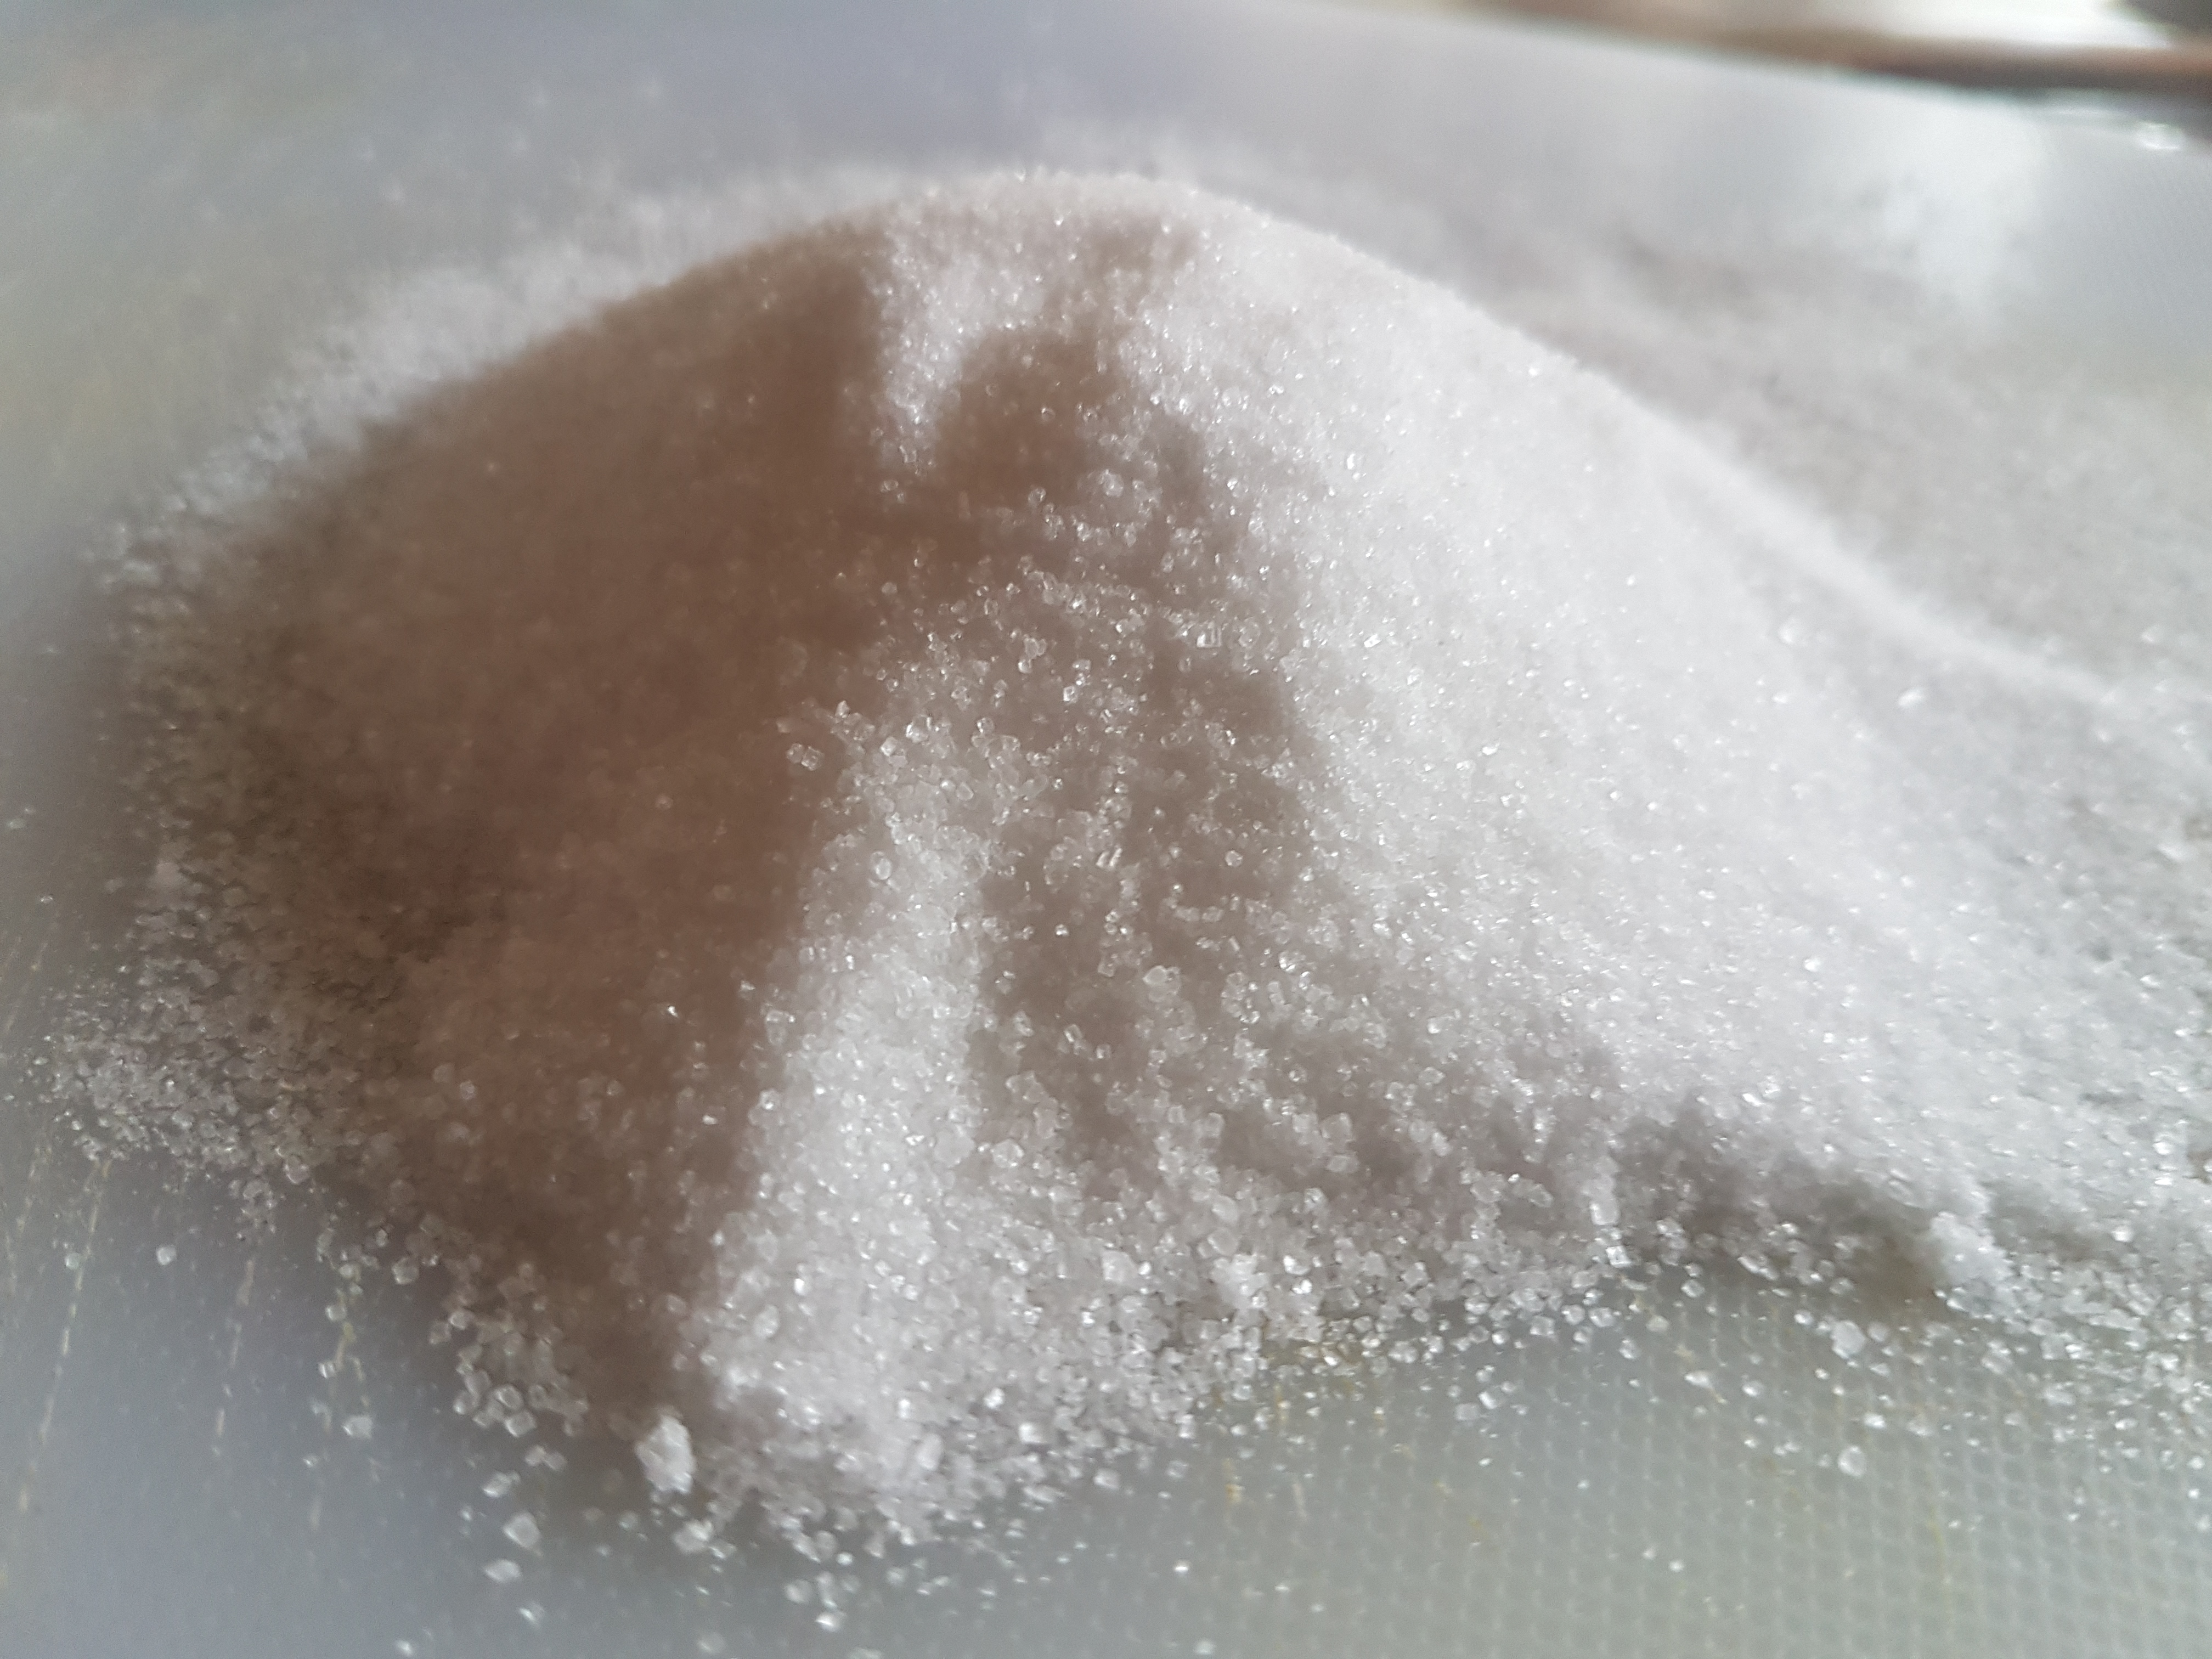Sugar: (37, 98, 2212, 1657)
